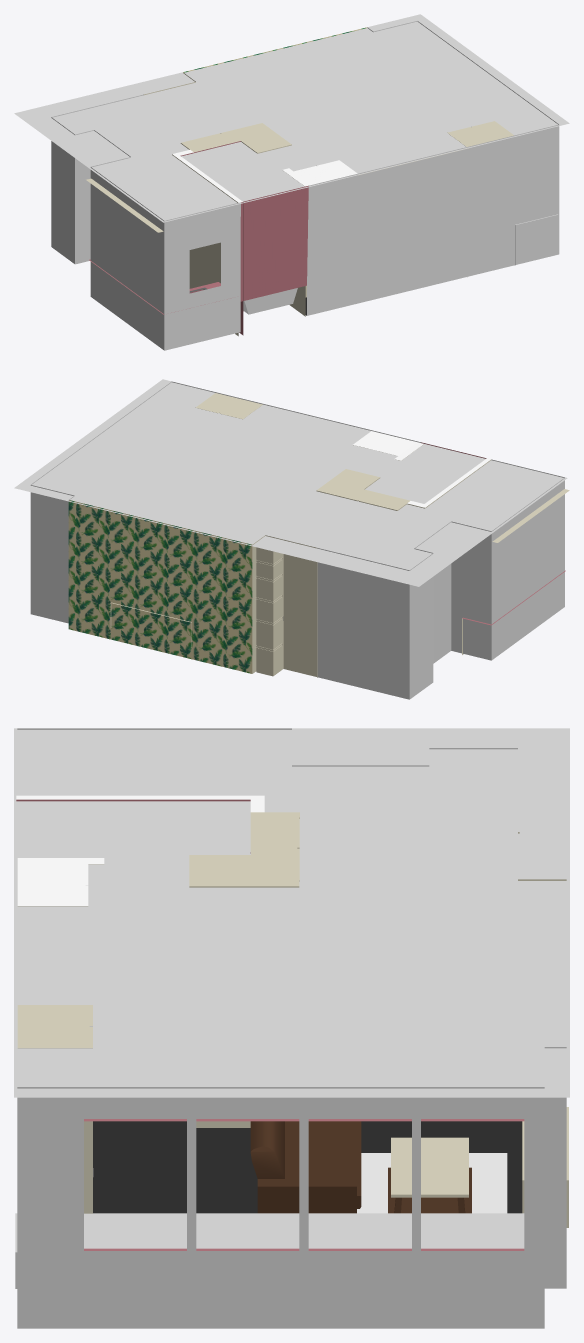
File: apartment.glb
The picture shows the model from 3 angles, top to bottom: view 1: azimuth 30°, elevation 25°; view 2: azimuth 150°, elevation 25°; view 3: azimuth 270°, elevation 25°; orthographic projection. The views are drawn at different scales.
Visible parts, largest first — view 1: Shell, Ceiling, Bathroom wall, Closet 2, Closet 1, Kitchen top; view 2: Shell, Ceiling, Bathroom wall, Closet 2, Closet 1, Kitchen top; view 3: Ceiling, Shell, Window Cabinets, Couch, Bathroom wall, Coffee Table, Closet 1, Rug, Closet 2.
Part boxes in pixels (x1,y1,x2,y2): Shell: (51,21,559,350); Ceiling: (14,14,569,222); Bathroom wall: (172,123,291,336); Closet 2: (282,160,357,316); Closet 1: (447,121,513,146); Kitchen top: (86,178,163,232); Shell: (30,381,564,699); Ceiling: (14,379,567,586); Bathroom wall: (316,458,491,510); Closet 2: (353,431,423,460); Closet 1: (195,393,262,419); Kitchen top: (492,489,569,542); Ceiling: (14,728,569,1097); Shell: (17,728,566,1328); Window Cabinets: (15,1213,524,1288); Couch: (250,1121,361,1213); Bathroom wall: (16,795,299,1127); Coffee Table: (388,1137,471,1213); Closet 1: (17,1005,92,1213); Rug: (357,1153,507,1213); Closet 2: (17,858,104,906).
Bounding box in the file's own units: 16.01 × 4.99 × 10.1.
16 materials, 1 textured.
